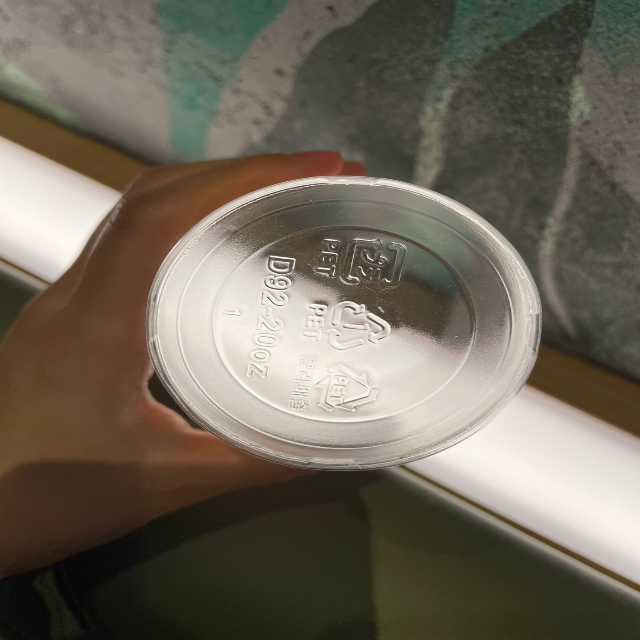pet: (289, 352, 383, 419), (302, 294, 403, 355), (314, 226, 407, 292)
